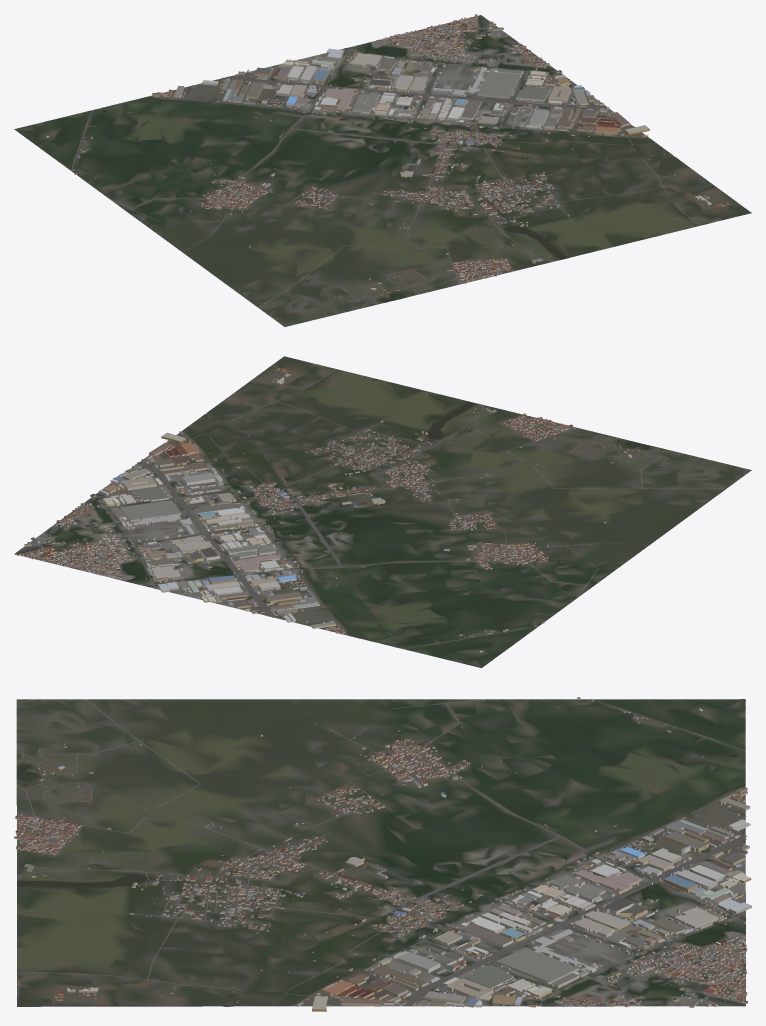
The picture shows the model from 3 angles, top to bottom: view 1: azimuth 30°, elevation 25°; view 2: azimuth 150°, elevation 25°; view 3: azimuth 270°, elevation 25°; orthographic projection. The views are drawn at different scales.
Visible parts, largest first — view 1: ground, buildings, roads, water; view 2: ground, buildings, roads, water; view 3: ground, buildings, roads, water.
Part boxes in pixels (<box>): ground: <box>14,15,751,326</box>; buildings: <box>46,14,728,303</box>; roads: <box>71,16,721,325</box>; water: <box>102,110,568,302</box>; ground: <box>14,356,751,667</box>; buildings: <box>17,364,714,652</box>; roads: <box>26,364,746,648</box>; water: <box>280,401,650,645</box>; ground: <box>16,699,745,1006</box>; buildings: <box>14,697,751,1011</box>; roads: <box>16,699,746,1006</box>; water: <box>17,754,738,922</box>.
Bounding box in the file's own units: 2853 × 24.38 × 2839.
